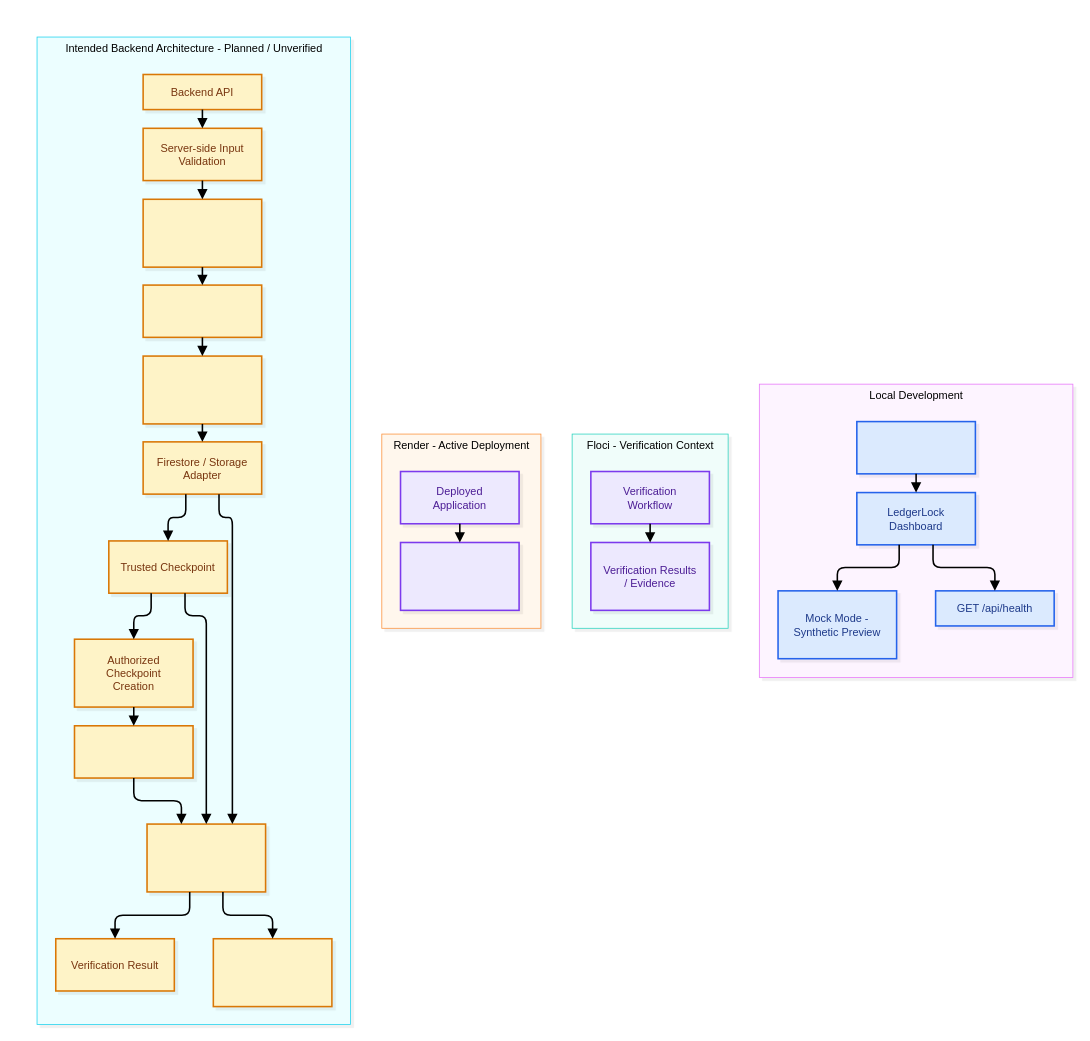
Some shapes in this 1090 by 1041 pixel diagram are drawn without their labels. The centre of each missing label's shape, as x and y in pixels:
"Allowlisted, Sanitized Security Logging" belongs at [273,974].
"Authentication and Authorization" belongs at [203,234].
"Canonical Audit Record" belongs at [203,312].
"Chain and Signature Verification" belongs at [207,859].
"Cloud KMS Signing" belongs at [135,753].
"Deployment Health / Revision Check" belongs at [461,577].
"Sequence + Previous Hash + SHA-256" belongs at [203,391].
"User / Browser / Test Client" belongs at [917,448].
